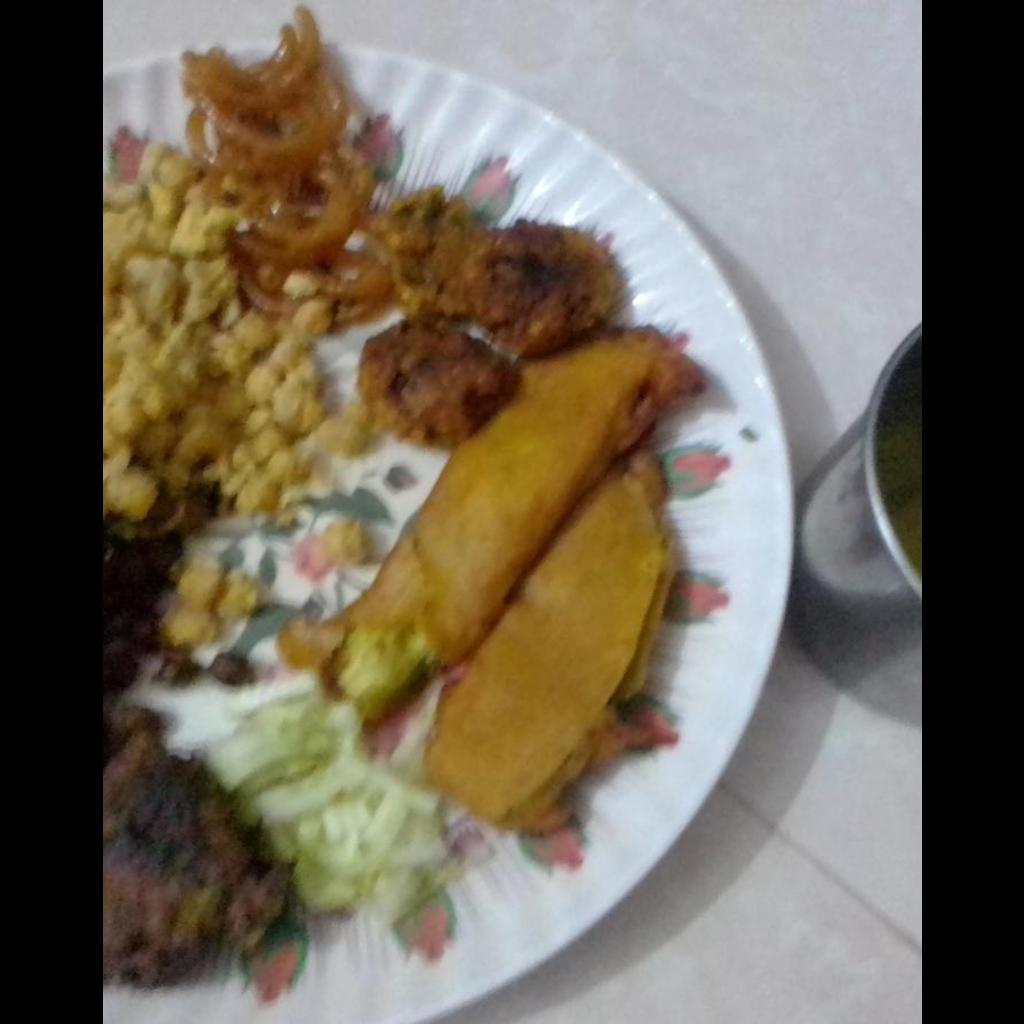beguni: (276, 324, 710, 835)
chicken: (102, 523, 292, 988)
cucumber: (207, 677, 446, 925)
daal: (102, 144, 331, 537)
peyaju: (354, 186, 626, 442)
sweets: (179, 7, 391, 312)
